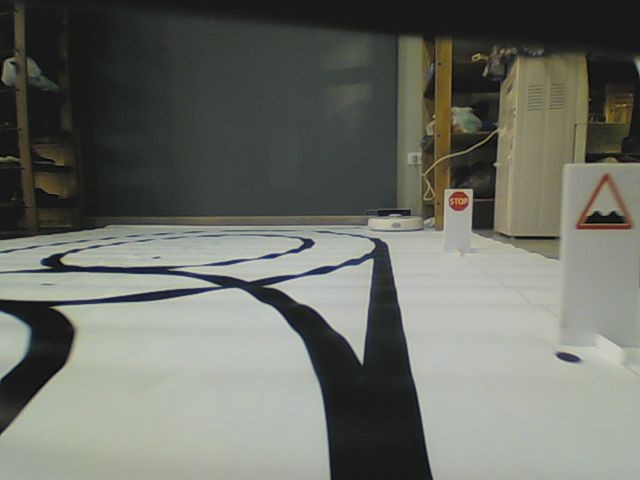Stop: (446, 191, 470, 210)
